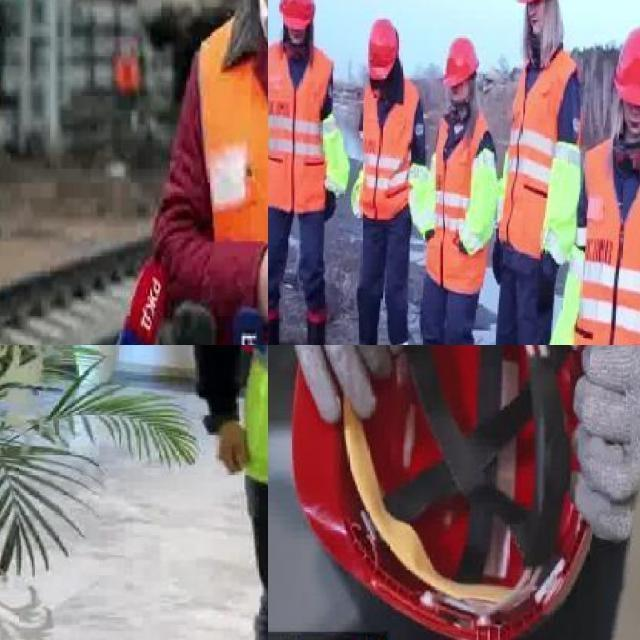apron: (566, 345, 640, 543), (268, 345, 420, 430), (493, 230, 502, 284), (325, 192, 336, 220)
